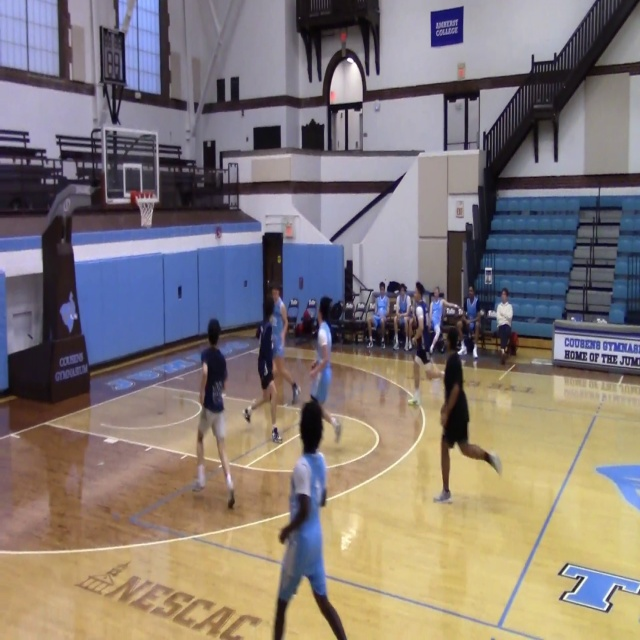Basketball: (415, 305, 424, 317), (409, 318, 417, 329)
